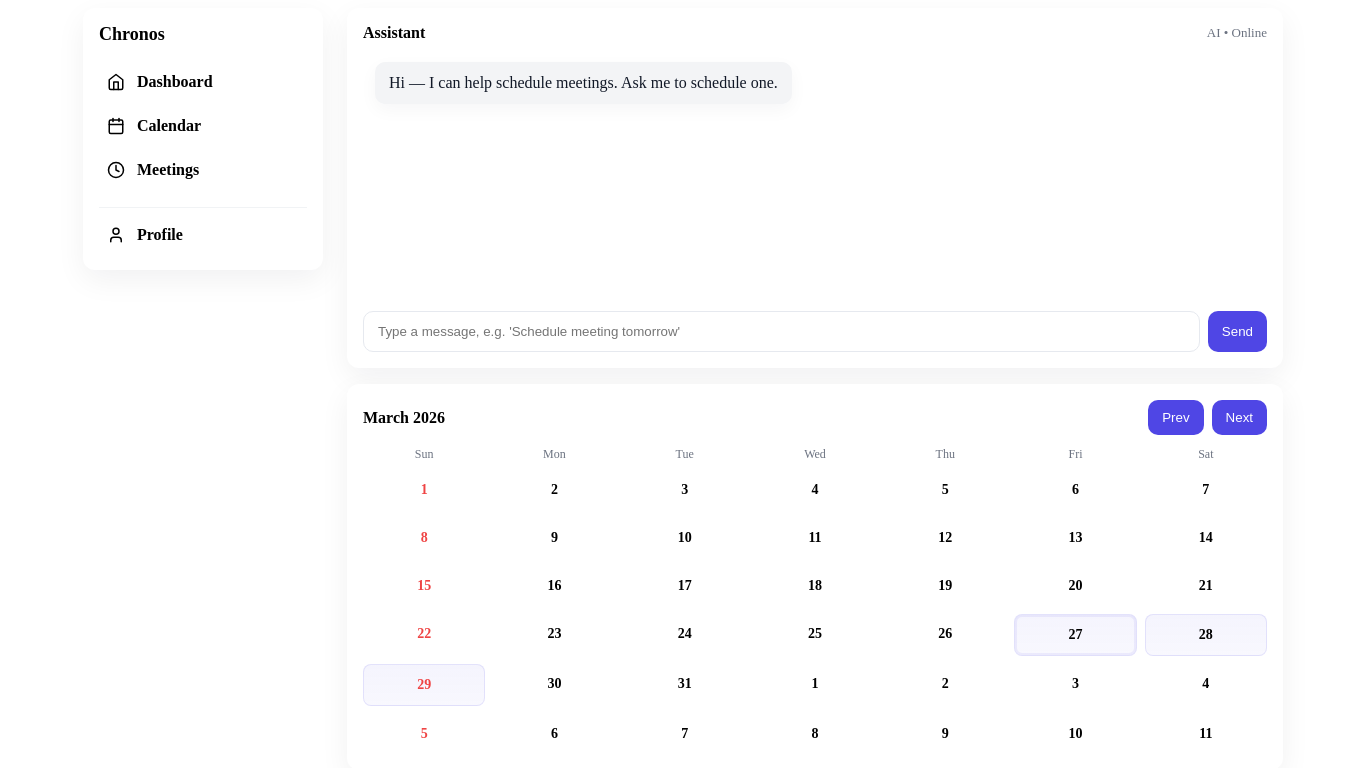
Test: ChronosDashboard components › Layout updates selected date and shows meeting details panel
Click the text "27".
click(1076, 634)  # box [1069, 627, 1083, 642]
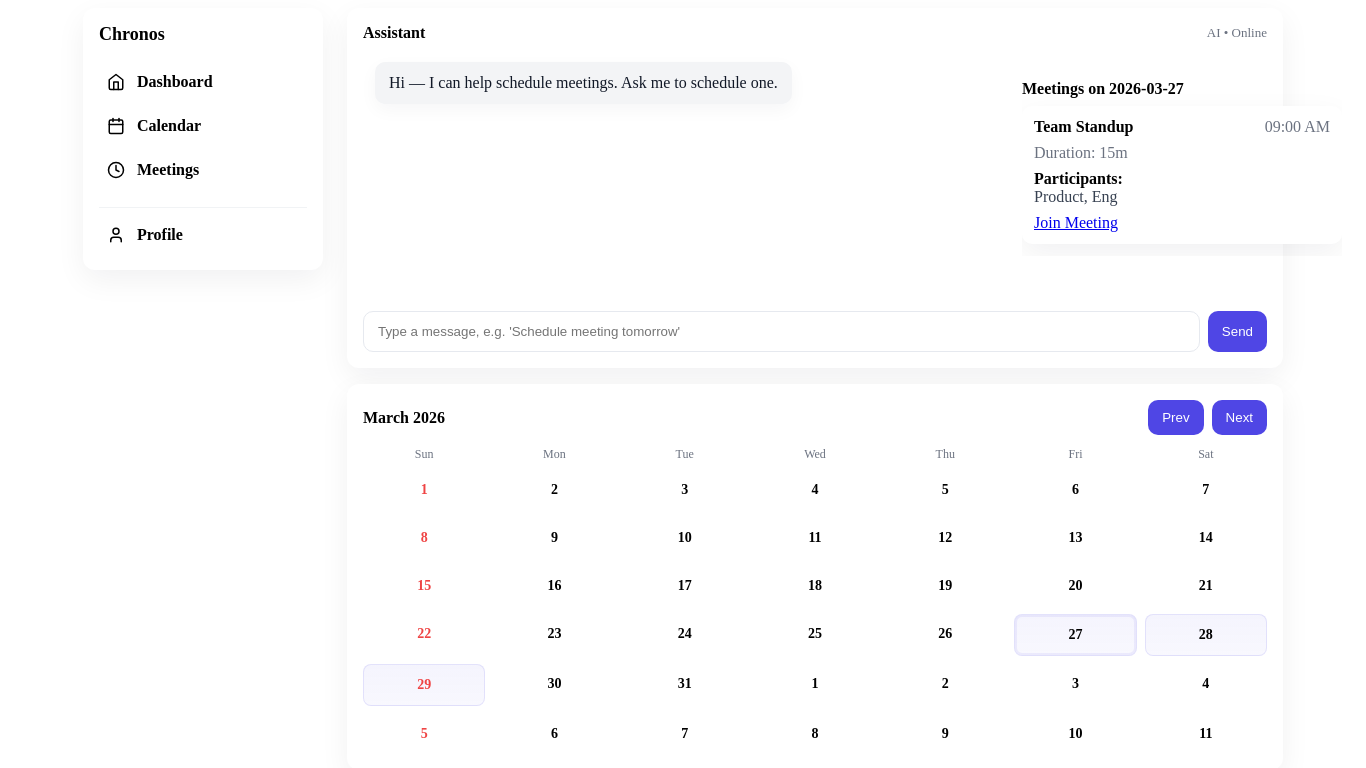
Expected: the text "Meetings on 2026-03-27" is shown, [1022, 80, 1184, 97]
Expected: the text "Team Standup" is shown, [1034, 118, 1134, 136]
